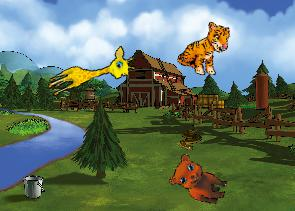bear: (166, 151, 233, 207)
giraffe: (44, 43, 138, 107)
tiger: (175, 16, 233, 80)
